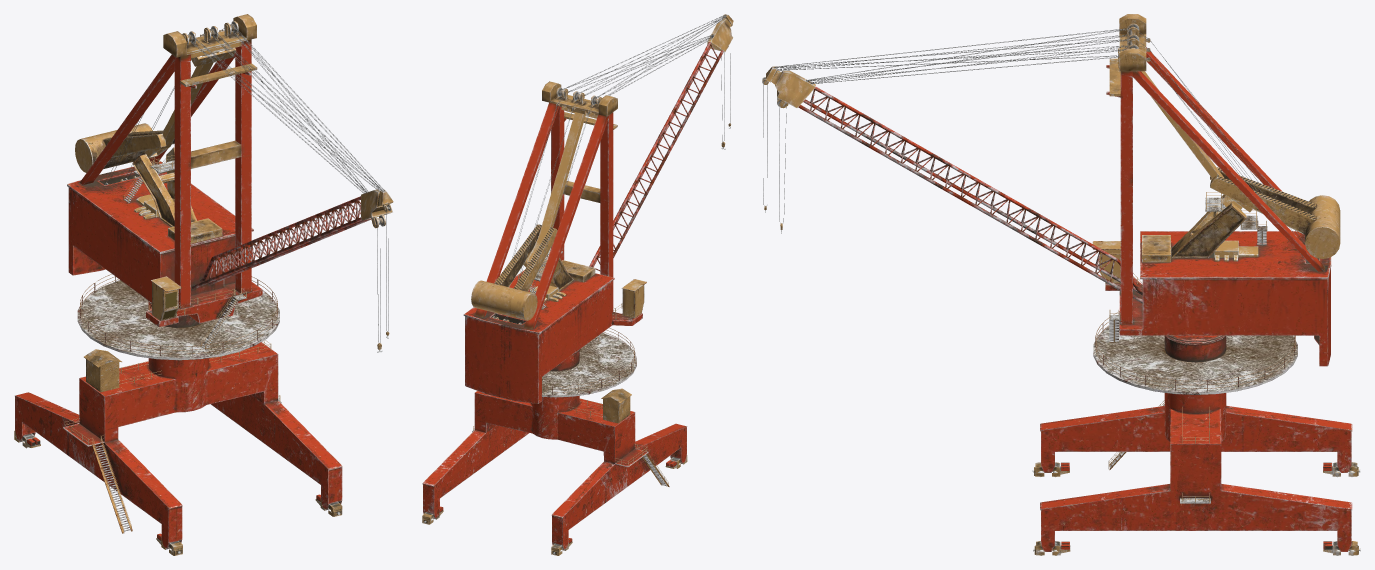
The model's file is crane.glb.
3 views of the same model, side by side, from view 1: azimuth 30°, elevation 25°; view 2: azimuth 150°, elevation 25°; view 3: azimuth 270°, elevation 25° (orthographic). The views are drawn at different scales.
Visible parts, largest first — view 1: polySurface2665, polySurface2664, polySurface2658; view 2: polySurface2665, polySurface2664, polySurface2658; view 3: polySurface2665, polySurface2664, polySurface2658.
Boxes of the visible parts, x1,y1,x2,y2 form: polySurface2665: (15,161,342,553); polySurface2664: (19,14,393,550); polySurface2658: (14,21,391,555); polySurface2665: (422,270,687,554); polySurface2664: (431,14,733,551); polySurface2658: (422,16,732,555); polySurface2665: (1032,231,1360,551); polySurface2664: (763,14,1354,555); polySurface2658: (762,23,1358,555).
Bounding box in the file's own units: 268 × 613 × 691.
Materials: 3 (3 with a texture image).
